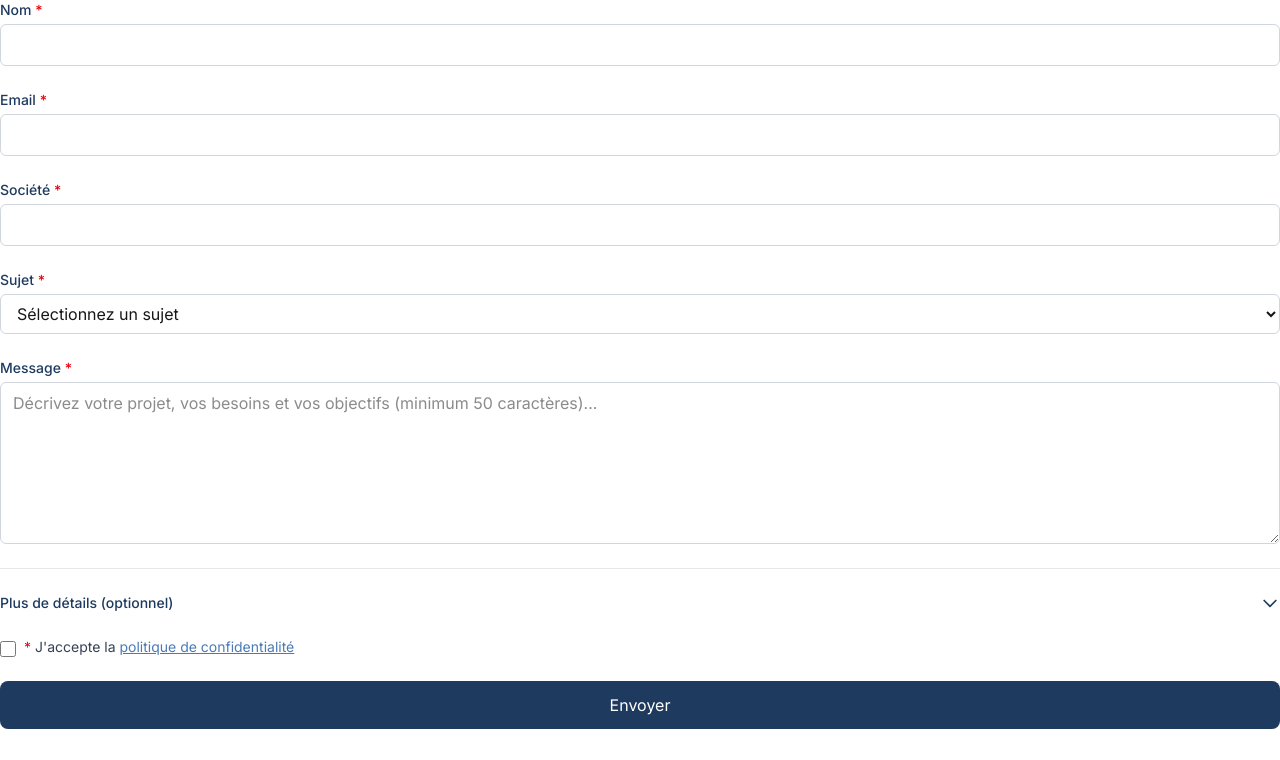
Test: ContactForm › shows error message on submission failure
Fill in the form with valid data
Step 1. Type "Jean Dupont" into the field labelled "Nom *" → (640,45), box [0,24,1279,66]
Step 2. Type "jean.dupont@example.com" into the field labelled "Email *" → (640,135), box [0,114,1279,156]
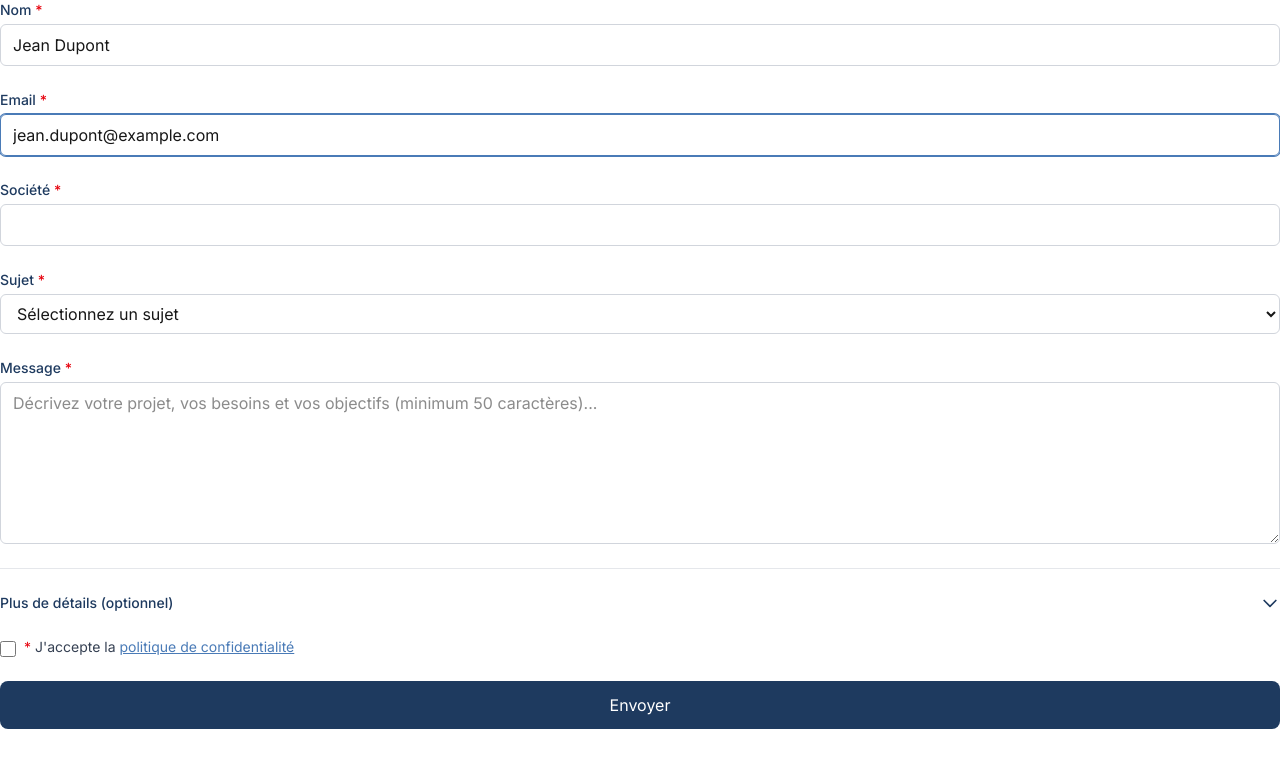
Step 3. Type "Acme Corp" into the field labelled "Société *" → (640,225), box [0,204,1279,246]
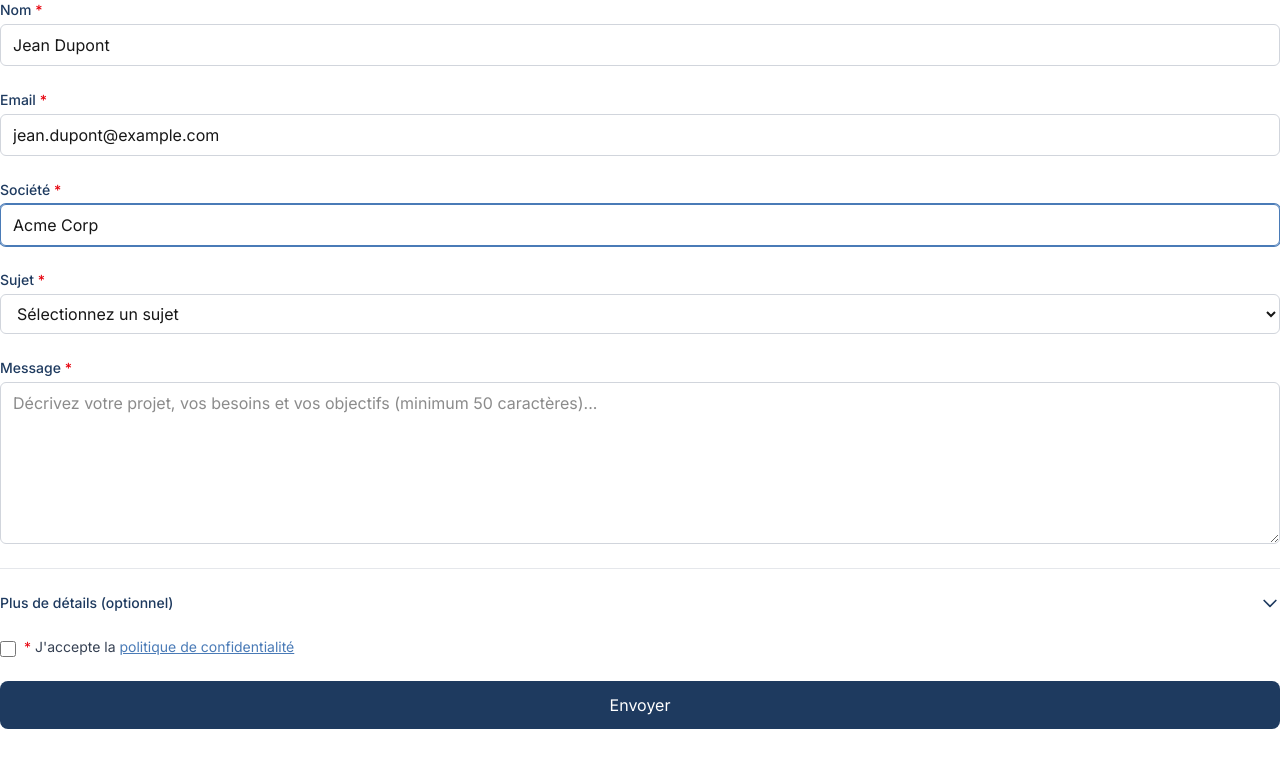
Step 4. Select "Mobile — Flutter / React Native / MVP" in the dropdown labelled "Sujet *" → (640,314), box [0,294,1279,334]
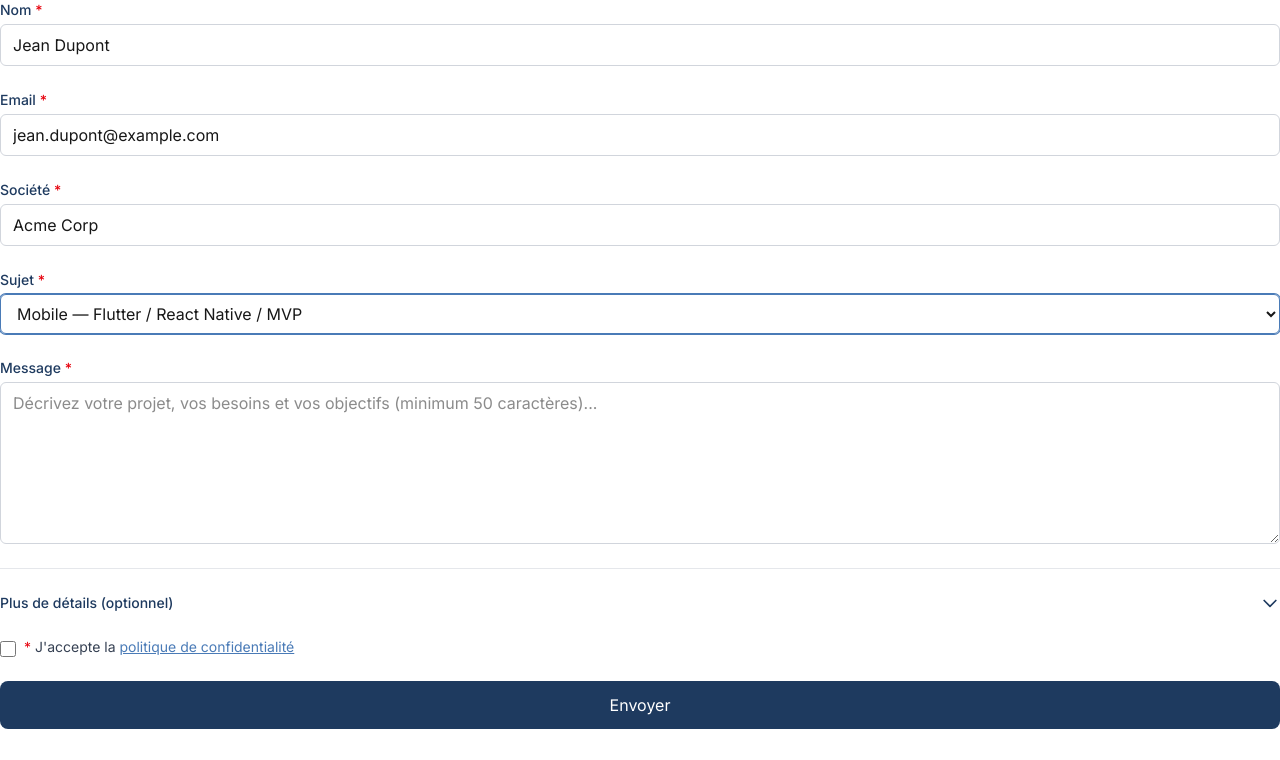
Step 5. Type "Nous souhaitons développer une application mobile innovante pour notre entreprise. Le projet nécessite une expertise en Flutter." into the text box labelled "Message *" → (640,463), box [0,382,1279,544]
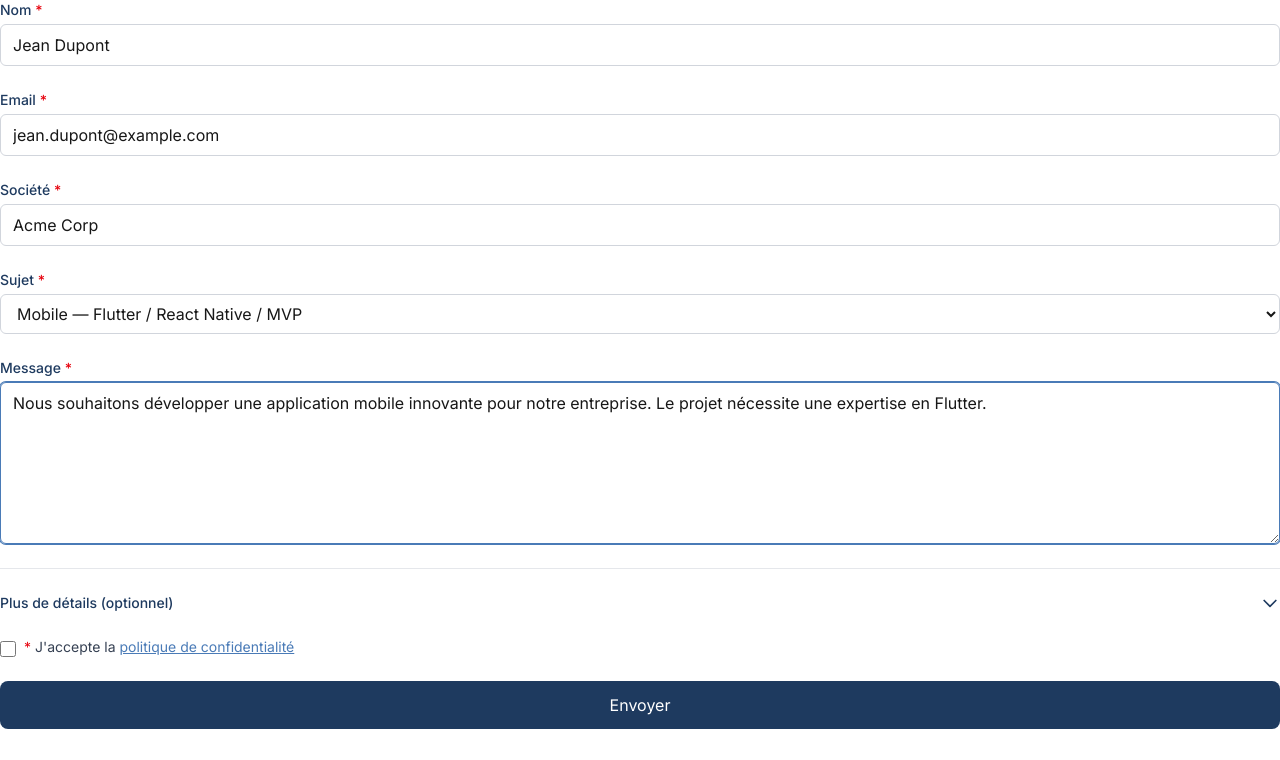
Step 6. Click the checkbox labelled "* J'accepte la politique de confidentialité" → (8,649), box [0,641,16,657]
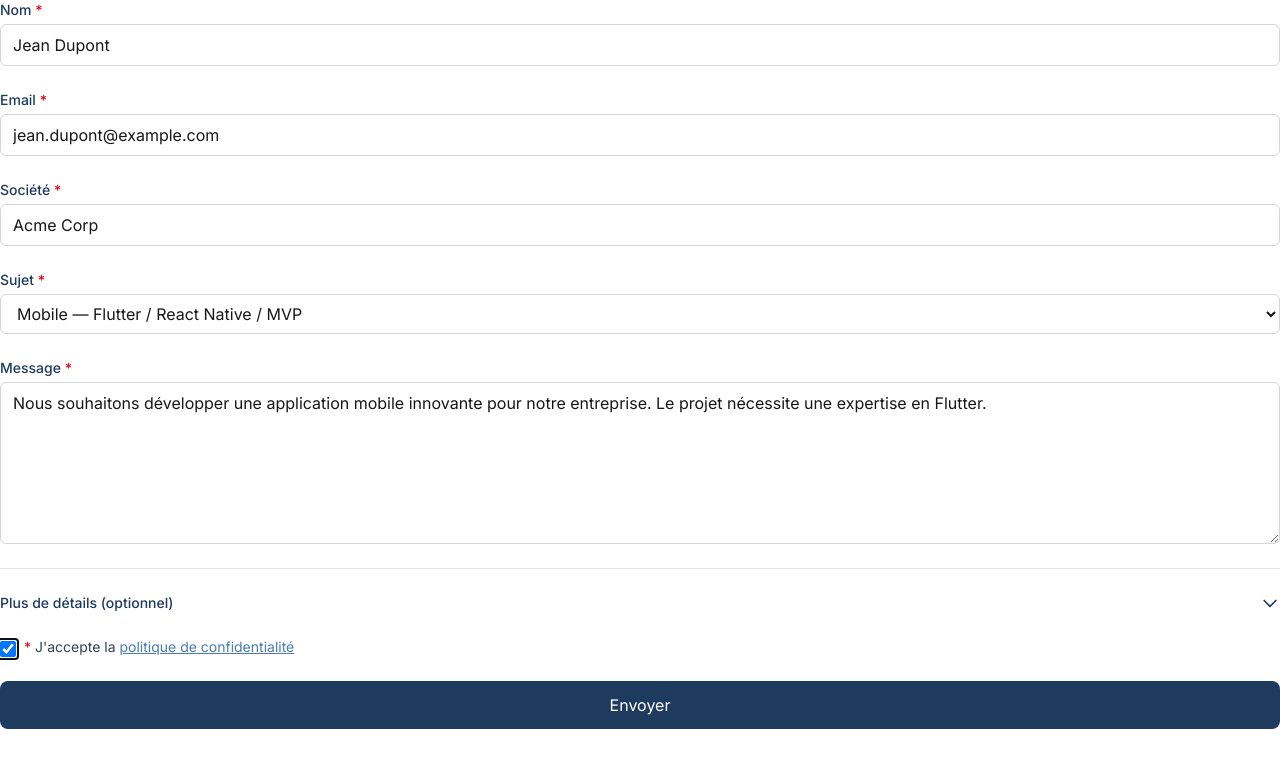
Submit the form
Step 7. Click the button "Envoyer" → (640,705), box [0,681,1279,729]
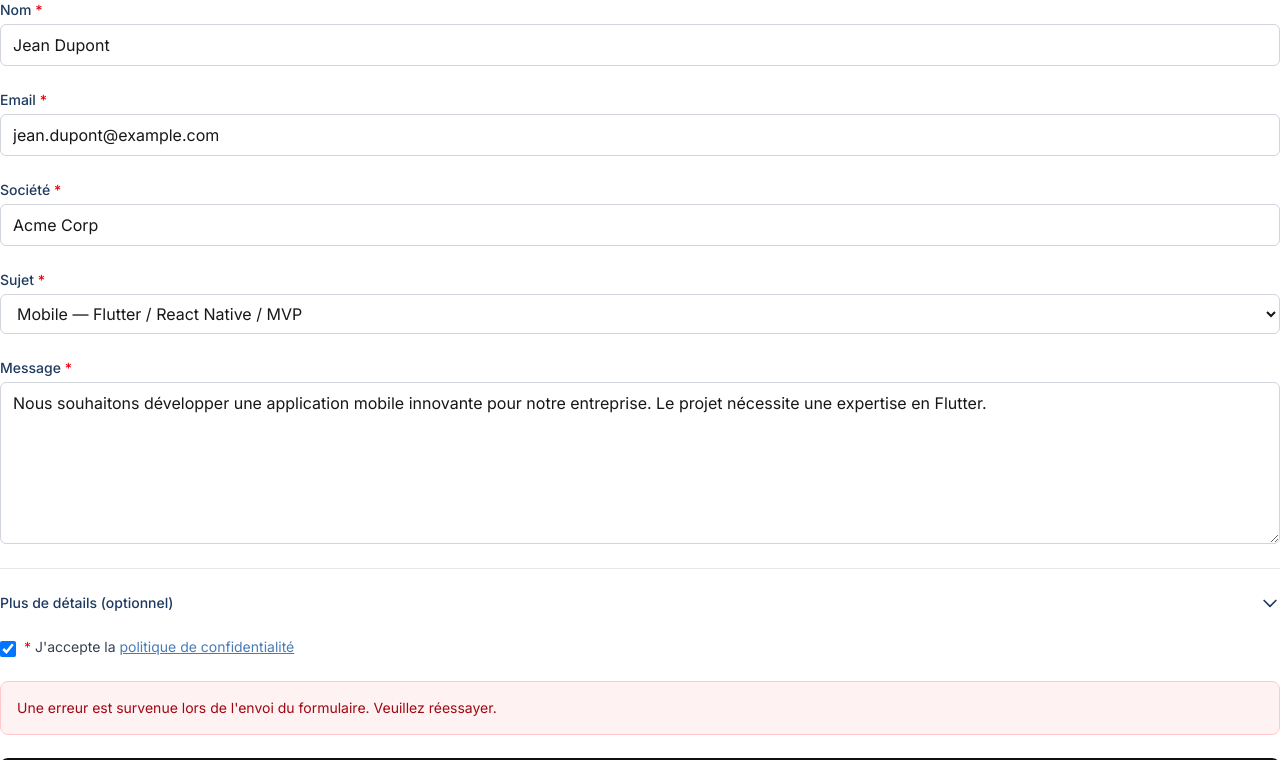
Expected: the text "Une erreur est survenue lors de l'envoi du formulaire" is shown, [17,699,497,716]
